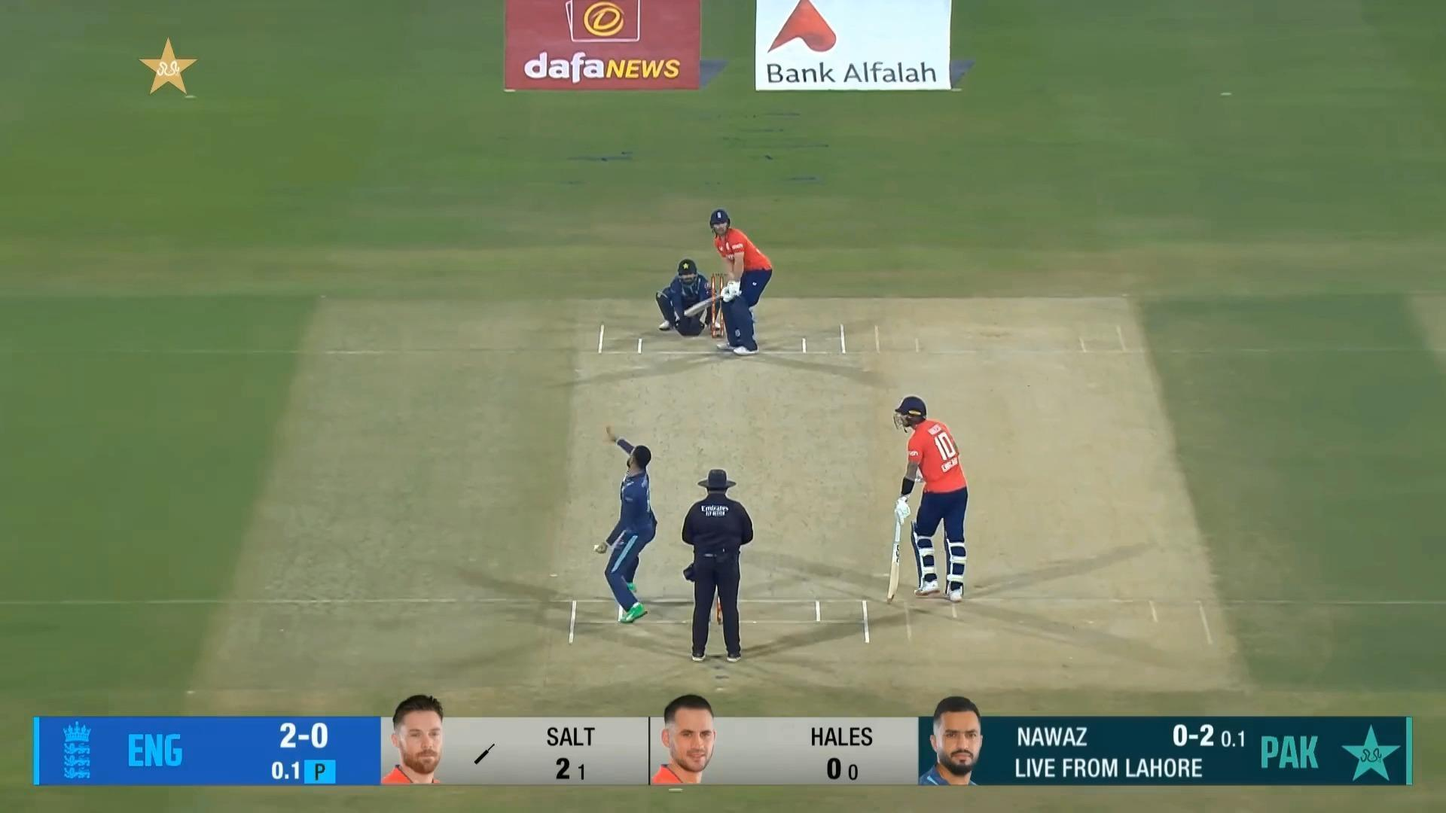BM 1: (682, 209, 775, 356)
BO: (592, 423, 659, 626)
